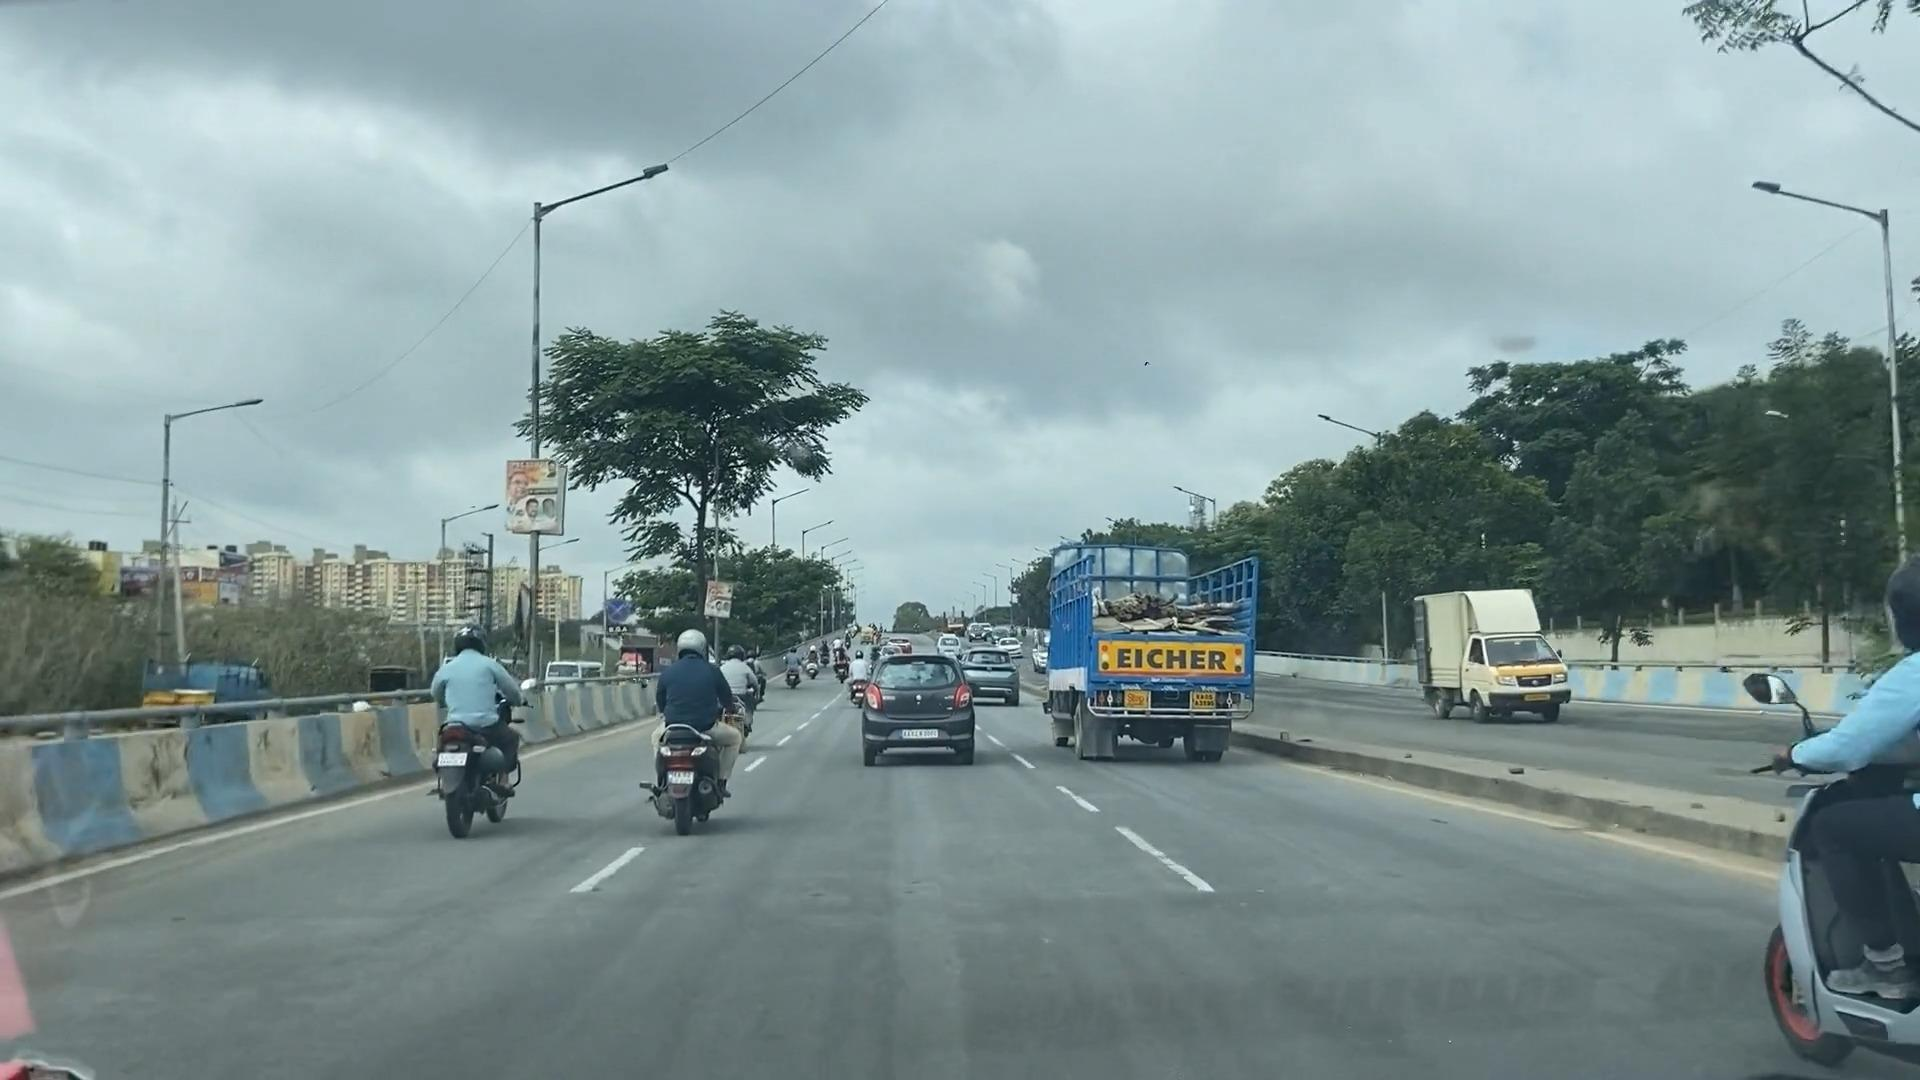HMV: (1080, 550, 1244, 744)
LMV: (650, 617, 732, 818), (436, 626, 504, 823), (864, 653, 971, 764)
